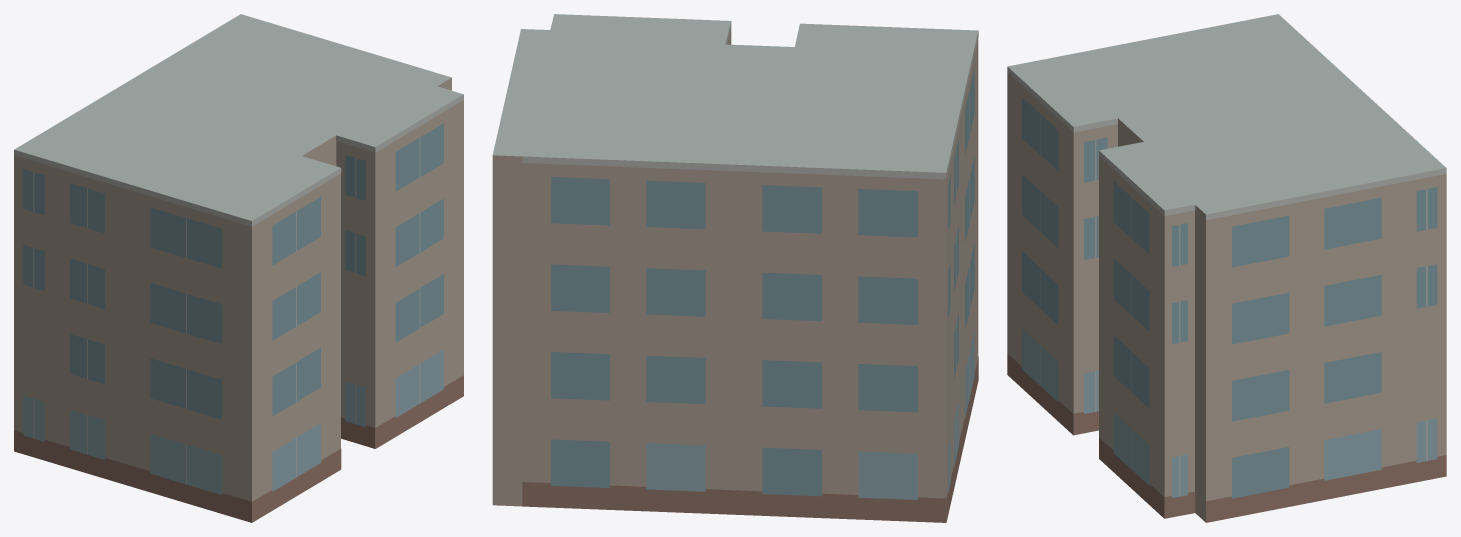
The model's file is survey-upis-32745560.glb.
3 views of the same model, side by side, from view 1: azimuth 30°, elevation 25°; view 2: azimuth 150°, elevation 25°; view 3: azimuth 270°, elevation 25° (orthographic). The views are drawn at different scales.
Visible parts, largest first — view 1: survey-upis-32745560.tmp; view 2: survey-upis-32745560.tmp; view 3: survey-upis-32745560.tmp.
Part boxes in pixels (x1=…): survey-upis-32745560.tmp: x1=14, y1=14, x2=463, y2=522; survey-upis-32745560.tmp: x1=492, y1=14, x2=978, y2=522; survey-upis-32745560.tmp: x1=1007, y1=14, x2=1446, y2=522.
Size of the model in its own units: 18.28 by 13.1 by 16.92.
